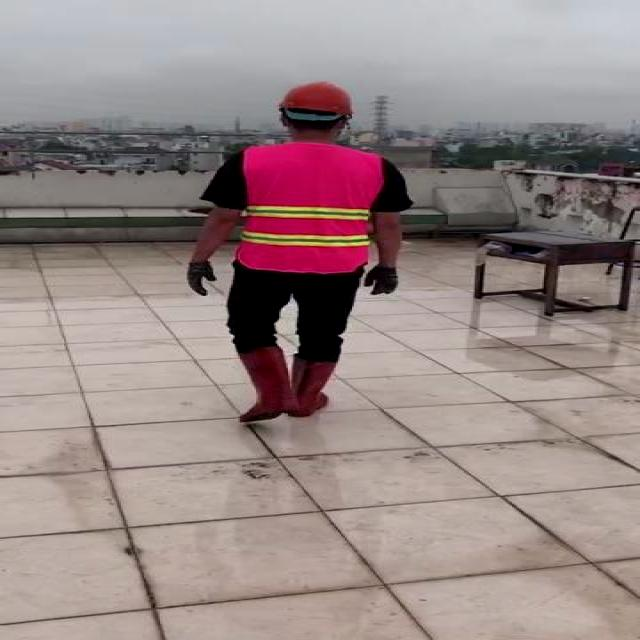boots: (233, 348, 297, 423), (292, 358, 342, 416)
hand_glove: (368, 266, 402, 301), (187, 261, 213, 293)
head_helmet: (275, 78, 358, 114)
person: (178, 77, 416, 437)
vest: (242, 144, 382, 275)
